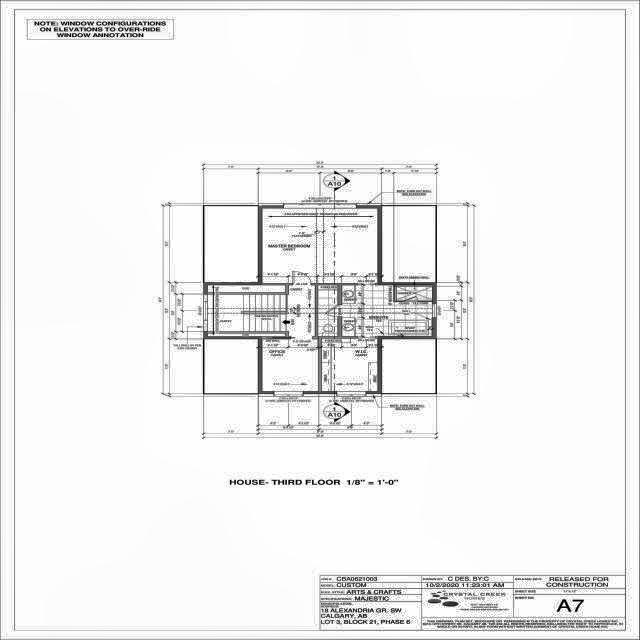room: (262, 208, 378, 283), (262, 339, 318, 391), (318, 285, 338, 336), (395, 287, 432, 301)
